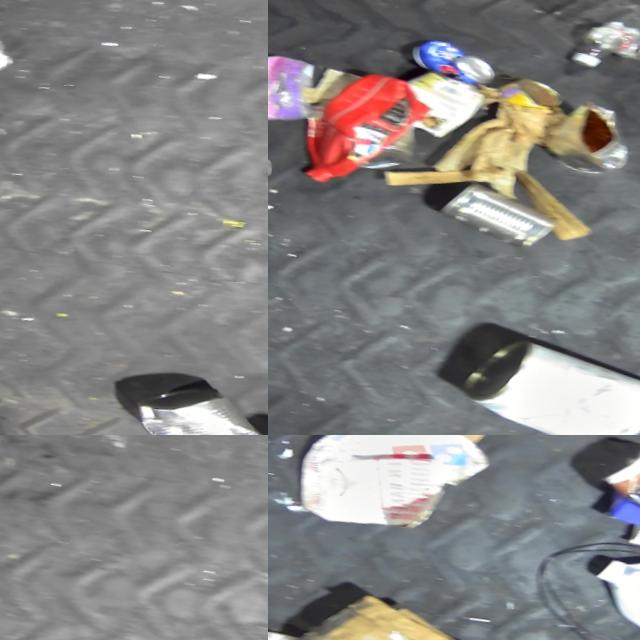can: (451, 327, 640, 435), (431, 176, 569, 261), (541, 99, 640, 186), (129, 375, 268, 435), (402, 34, 506, 95), (493, 74, 570, 118), (0, 19, 24, 88)
milk_jug: (582, 544, 640, 640)
non_white_jug: (293, 62, 441, 201)
plastic_bottle: (564, 14, 640, 91)
